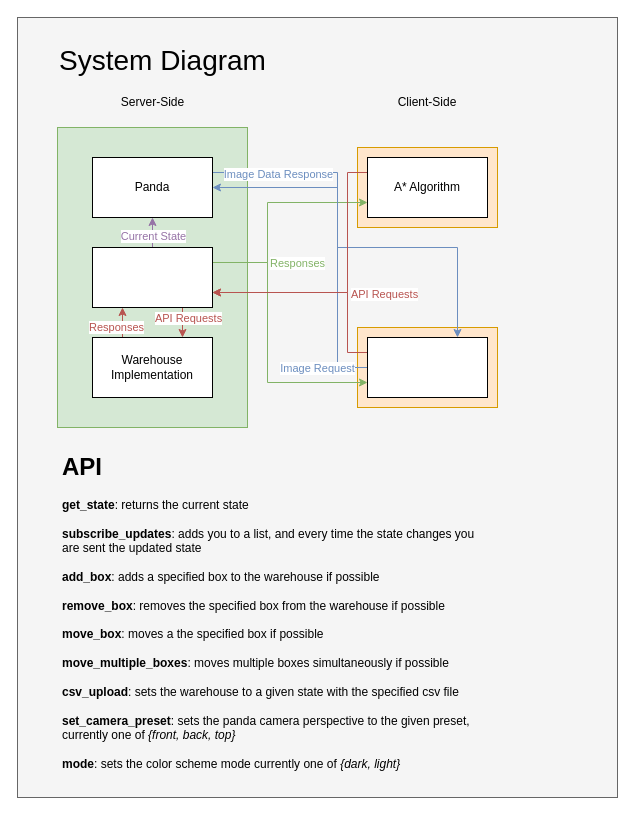
The diagram is 635 pixels wide and 815 high, and some of its shapes have lost their labels. Each missing label, with the centre of its shape:
"Web Client" belongs at [427,367].
"WebSocket Server" belongs at [152,277].
